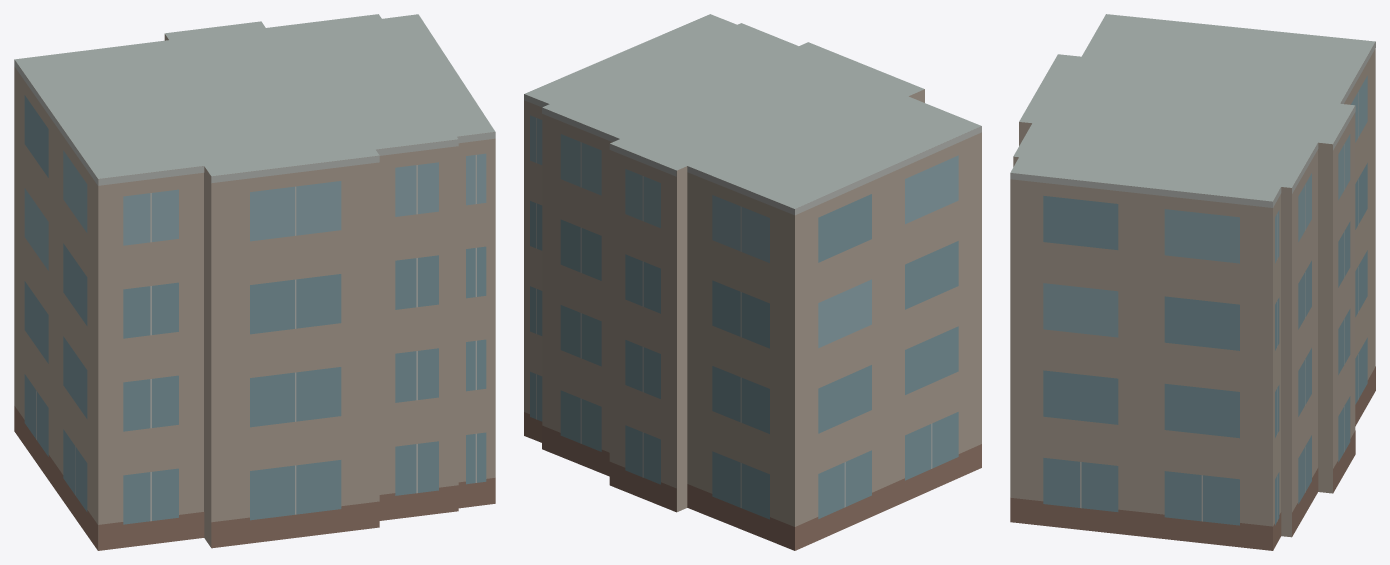
File: survey-upis-32808652.glb
3 renders of one model, left to right at view 1: azimuth 30°, elevation 25°; view 2: azimuth 150°, elevation 25°; view 3: azimuth 270°, elevation 25°, orthographic. The views are drawn at different scales.
Visible parts, largest first — view 1: survey-upis-32808652.tmp; view 2: survey-upis-32808652.tmp; view 3: survey-upis-32808652.tmp.
Boxes of the visible parts, x1,y1,x2,y2 form: survey-upis-32808652.tmp: [14, 14, 495, 550]; survey-upis-32808652.tmp: [524, 14, 981, 550]; survey-upis-32808652.tmp: [1010, 14, 1375, 550].
Size of the model in its own units: 15.27 by 13.25 by 12.57.
